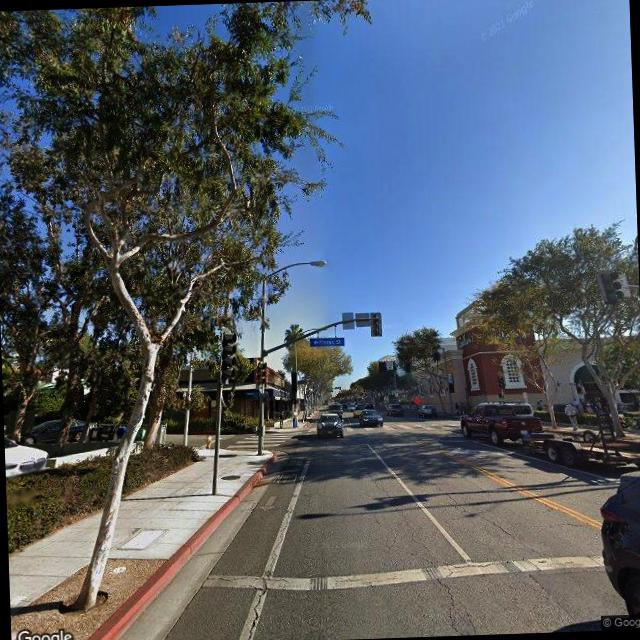crack: (363, 477, 495, 638), (432, 479, 540, 558), (236, 571, 269, 640)
